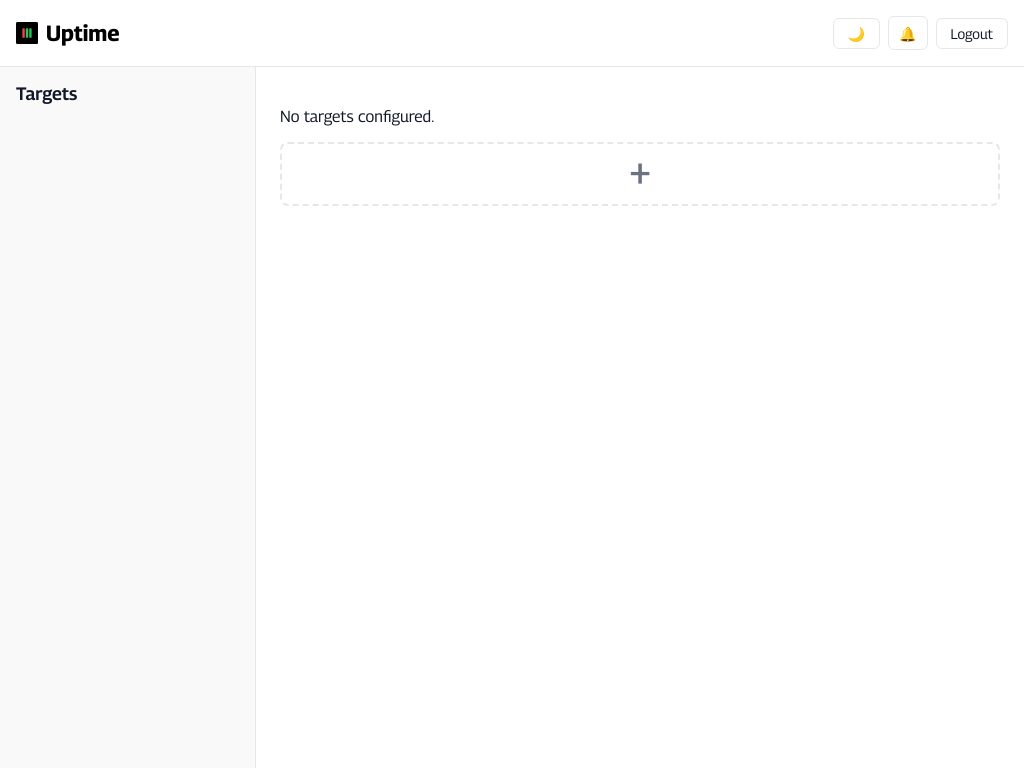
Test case: App add-target tile › shows the add tile when logged in and opens the add modal
Click the button named "Add new target" at (640, 174), box [280,142,1000,206]
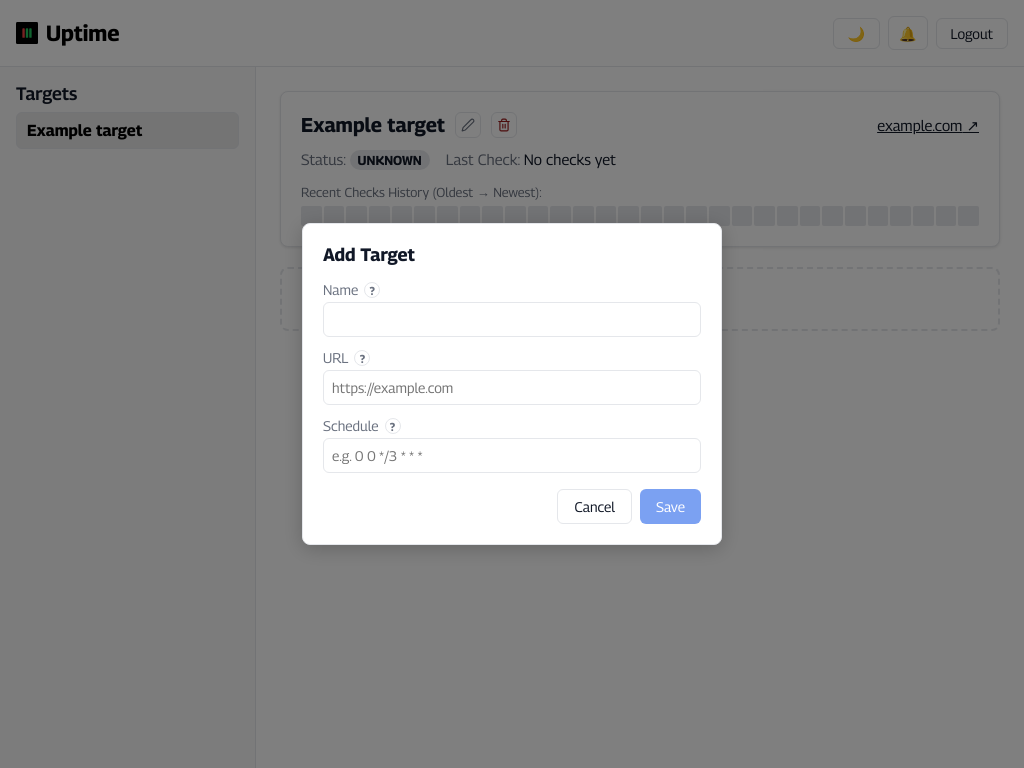
Expected: the heading "Add Target" is shown, [323,244,415,265]
Expected: the field labelled "Name ?" is shown, [323,302,701,337]
Expected: the field labelled "URL ?" is shown, [323,370,701,405]
